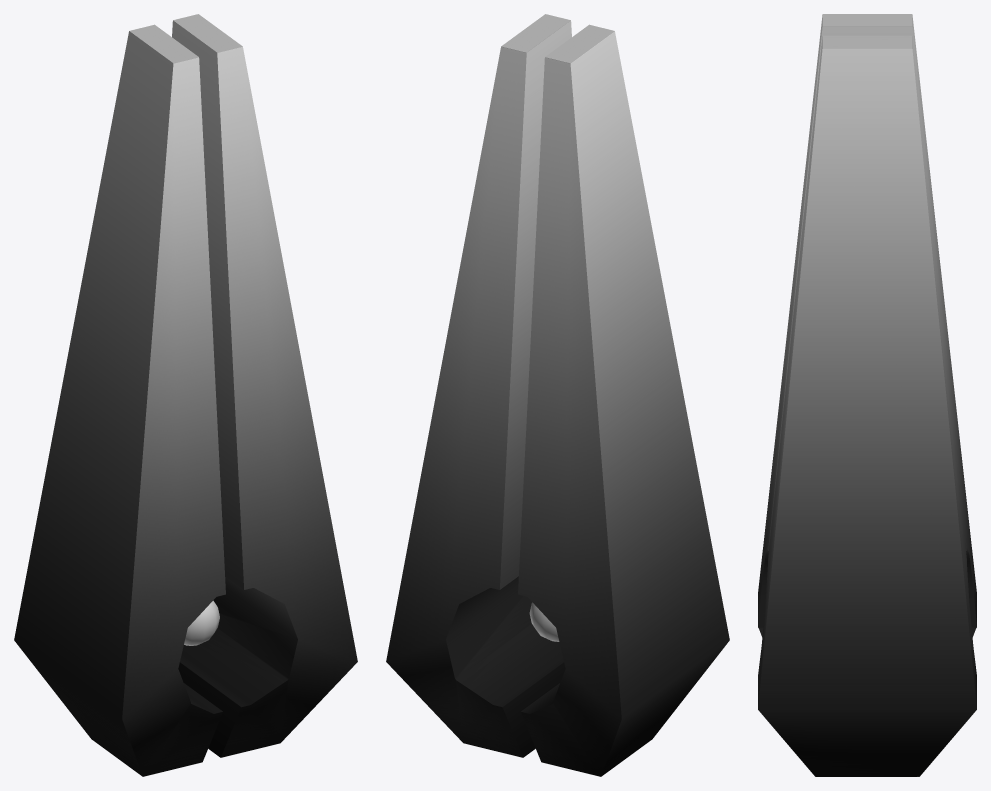
Rendered from BG_Building_V2.fbx.
3 views of the same model, side by side, from view 1: azimuth 30°, elevation 25°; view 2: azimuth 150°, elevation 25°; view 3: azimuth 270°, elevation 25° (orthographic).
Visible parts, largest first — view 1: BG_Building_V2; view 2: BG_Building_V2; view 3: BG_Building_V2.
Boxes of the visible parts, <box> form: BG_Building_V2: <box>14,14,357,776</box>; BG_Building_V2: <box>386,14,729,776</box>; BG_Building_V2: <box>758,14,976,776</box>.
Bounding box in the file's own units: 2132 × 6073 × 1693.
